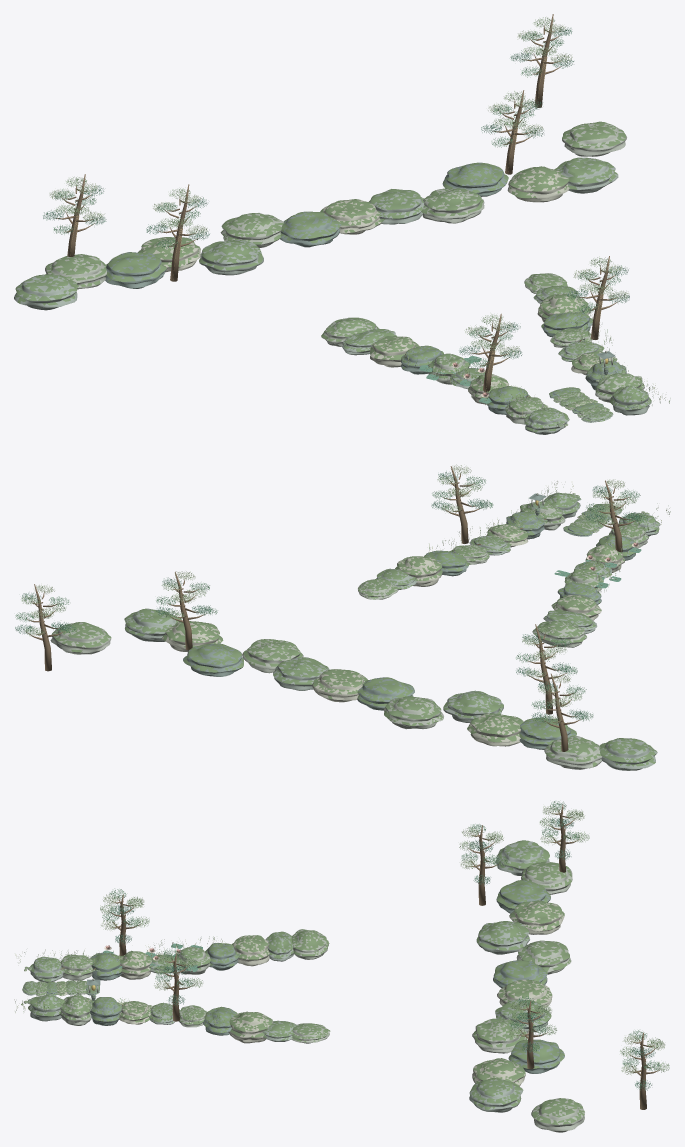
The model's file is shore-hd.glb.
3 renders of one model, top to bottom at view 1: azimuth 30°, elevation 25°; view 2: azimuth 150°, elevation 25°; view 3: azimuth 270°, elevation 25°, orthographic. The views are drawn at different scales.
Visible parts, largest first — view 1: Shore_1, Shore_0, Shore_2, Shore_3, Shore_7, Shore_11, Shore_9, Shore_8, Shore_10, Shore_12; view 2: Shore_1, Shore_0, Shore_3, Shore_2, Shore_7, Shore_10, Shore_9, Shore_8, Shore_11; view 3: Shore_1, Shore_0, Shore_3, Shore_2, Shore_7, Shore_9, Shore_10, Shore_11, Shore_8.
Part boxes in pixels (x1,y1,x2,y2): Shore_1: (45,121,644,426); Shore_0: (14,157,651,434); Shore_2: (105,162,637,414); Shore_3: (138,166,645,426); Shore_7: (55,14,619,397); Shore_11: (49,24,628,355); Shore_9: (53,30,620,368); Shore_8: (43,27,629,358); Shore_10: (54,17,612,350); Shore_12: (70,57,603,392); Shore_1: (50,495,649,769); Shore_0: (124,492,660,770); Shore_3: (161,493,645,746); Shore_2: (183,497,636,749); Shore_7: (26,466,636,751); Shore_10: (21,475,636,724); Shore_9: (15,476,647,721); Shore_8: (15,471,641,722); Shore_11: (30,464,625,708); Shore_1: (23,861,584,1132); Shore_0: (22,840,551,1112); Shore_3: (21,900,564,1086); Shore_2: (27,880,564,1073); Shore_7: (60,804,660,1109); Shore_9: (102,801,660,1071); Shore_10: (100,809,669,1072); Shore_11: (101,805,664,1075); Shore_8: (110,817,655,1090).
Size of the model in its own units: 41.48 by 6.88 by 40.79.
